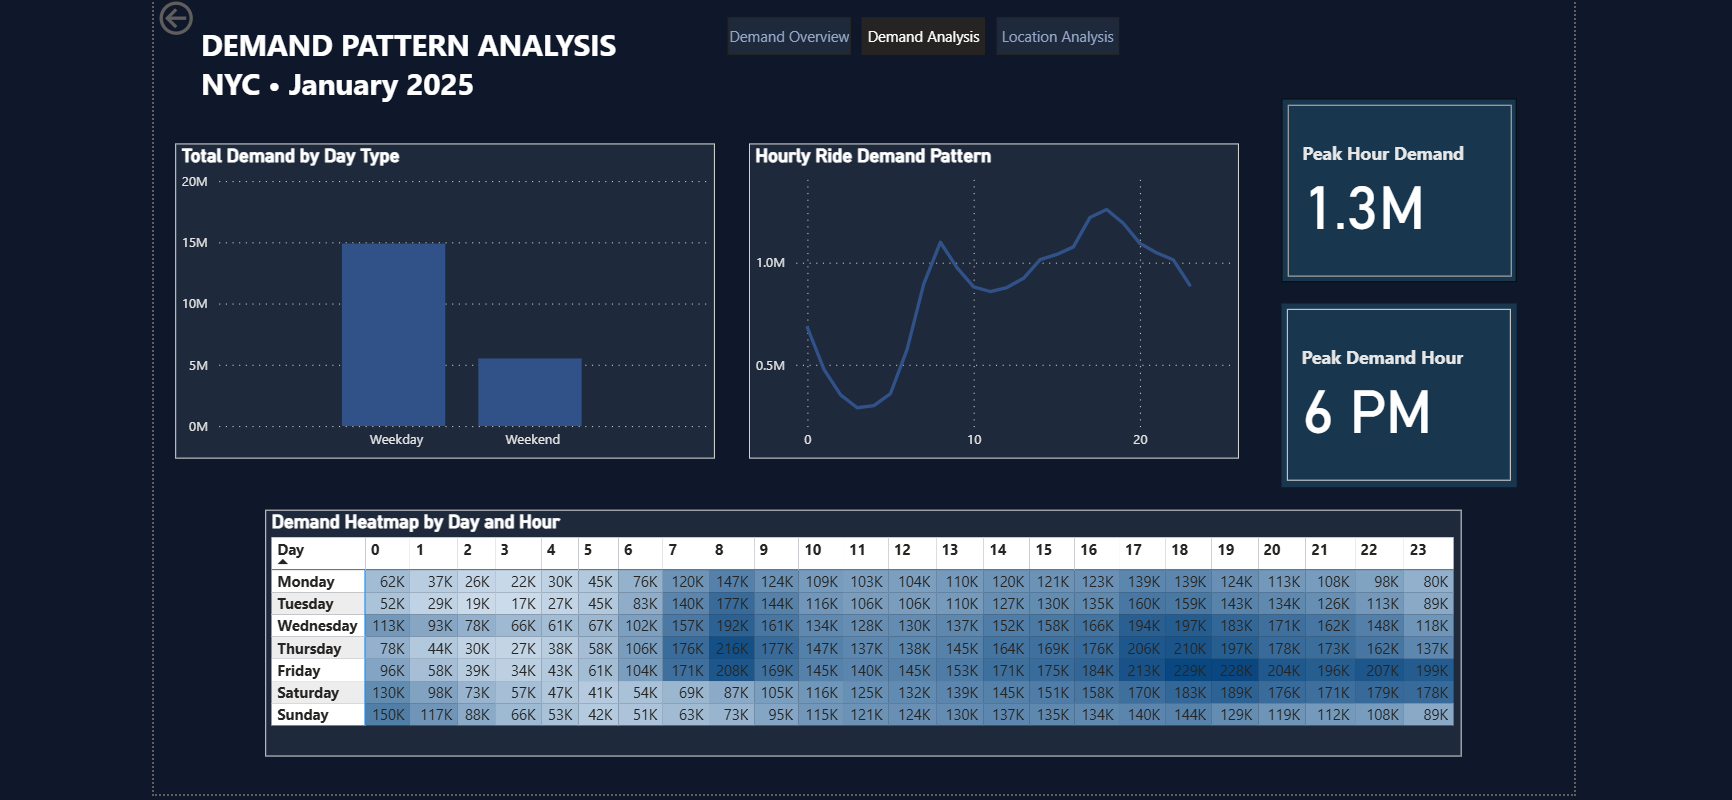

The page's visual inventory and layout, read from the dashboard file:
{"tool":"powerbi","page":{"name":"Demand Analysis","canvas":[1280,720],"ordinal":1},"visuals":[{"type":"textbox","box":[36.7,20.4,458,87],"z":0},{"type":"clusteredColumnChart","fields":{"Y":["public demand_hourly.Total Demand"],"Category":["public demand_hourly.Day Type"]},"box":[19,133.2,486.6,284.1],"z":1000},{"type":"pivotTable","title":"Demand Heatmap by Day and Hour","fields":{"Columns":["public demand_hourly.hour"],"Values":["public demand_hourly.Total Demand"],"Rows":["public demand_hourly.day_of_week"]},"box":[100.2,463.3,1078.2,222.5],"z":2000},{"type":"actionButton","box":[0,0,100,40],"z":3000},{"type":"lineChart","title":"Hourly Ride Demand Pattern","fields":{"Category":["public demand_hourly.hour"],"Y":["public demand_hourly.Total Demand"]},"box":[536.8,133.2,441.7,284.1],"z":4000},{"type":"cardVisual","fields":{"Data":["public demand_hourly.Peak Demand Time"]},"box":[1016.6,277.3,212,165.8],"z":5000},{"type":"cardVisual","fields":{"Data":["public demand_hourly.Peak Hour Demand"]},"box":[1016.6,92.4,212,165.8],"z":6000},{"type":"pageNavigator","box":[517.6,19.5,353.4,34.8],"z":8000}]}

Visuals, with their boxes on the page's 1280x720 design canvas (x1, y1, x2, y2). These are canvas units, not pixel positions in the 1732x800 screenshot, which may show the page scaled, cropped or inside an application window:
textbox: left=37, top=20, right=495, bottom=107
clusteredColumnChart - public demand_hourly.Total Demand x public demand_hourly.Day Type: left=19, top=133, right=506, bottom=417
"Demand Heatmap by Day and Hour" pivotTable: left=100, top=463, right=1178, bottom=686
actionButton: left=0, top=0, right=100, bottom=40
"Hourly Ride Demand Pattern" lineChart: left=537, top=133, right=978, bottom=417
cardVisual - public demand_hourly.Peak Demand Time: left=1017, top=277, right=1229, bottom=443
cardVisual - public demand_hourly.Peak Hour Demand: left=1017, top=92, right=1229, bottom=258
pageNavigator: left=518, top=20, right=871, bottom=54
